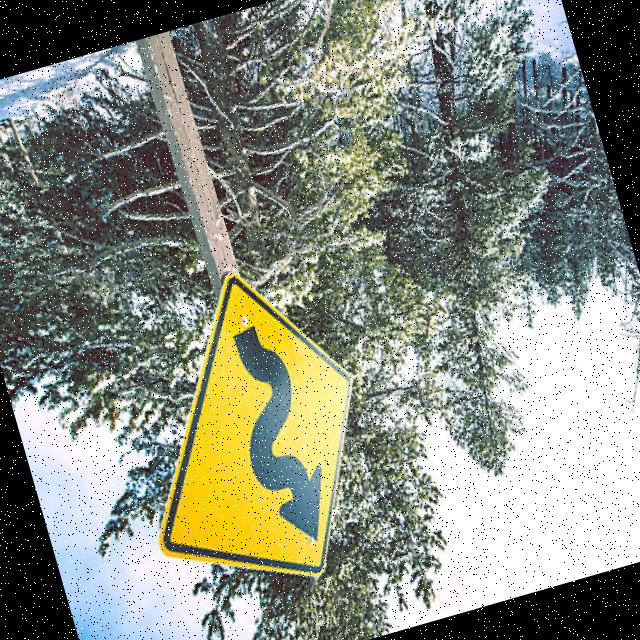left_sharp_curve: (89, 243, 422, 640)
